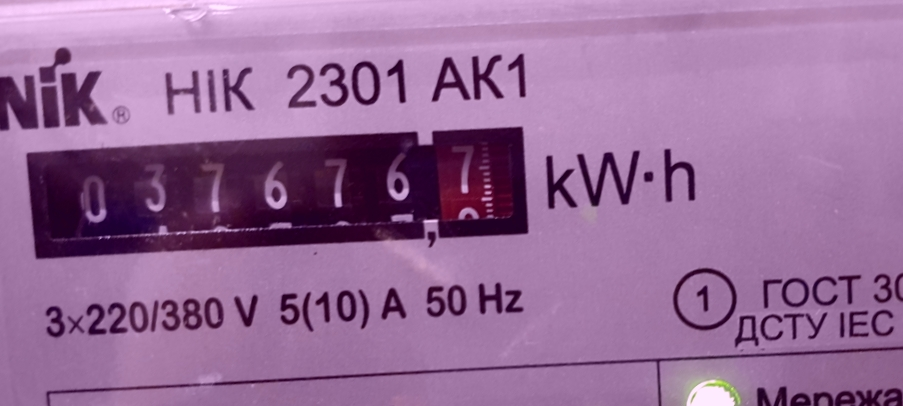0: (76, 170, 113, 226)
3: (139, 158, 170, 216)
6: (258, 156, 293, 212), (381, 148, 414, 204)
7: (320, 154, 354, 214), (197, 158, 231, 216), (449, 140, 480, 197)
screen: (10, 105, 547, 283)
